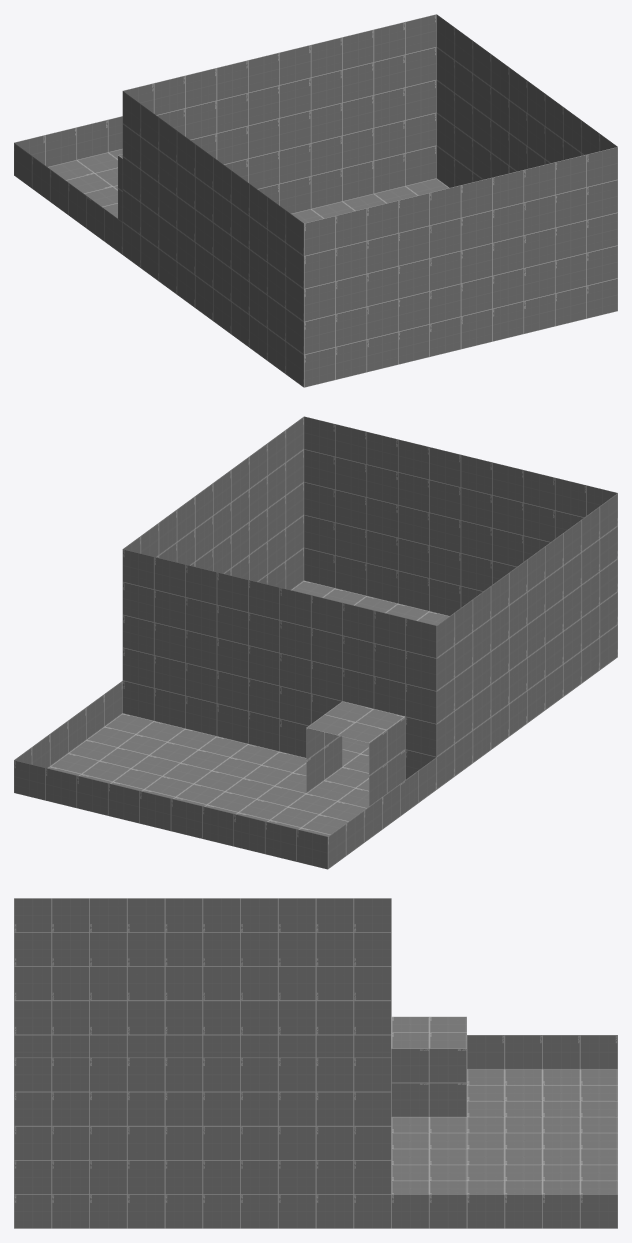
The model's file is Map.obj.
3 views of the same model, one above another, from view 1: azimuth 30°, elevation 25°; view 2: azimuth 150°, elevation 25°; view 3: azimuth 270°, elevation 25° (orthographic). The views are drawn at different scales.
Parts seen in each view (by area): view 1: Plane; view 2: Plane; view 3: Plane.
Part boxes in pixels (bbox=[...]): Plane: bbox=[14, 14, 617, 387]; Plane: bbox=[14, 416, 617, 869]; Plane: bbox=[14, 898, 617, 1228].
Size of the model in its own units: 20 by 10 by 32.
Materials: 1 (1 with a texture image).
